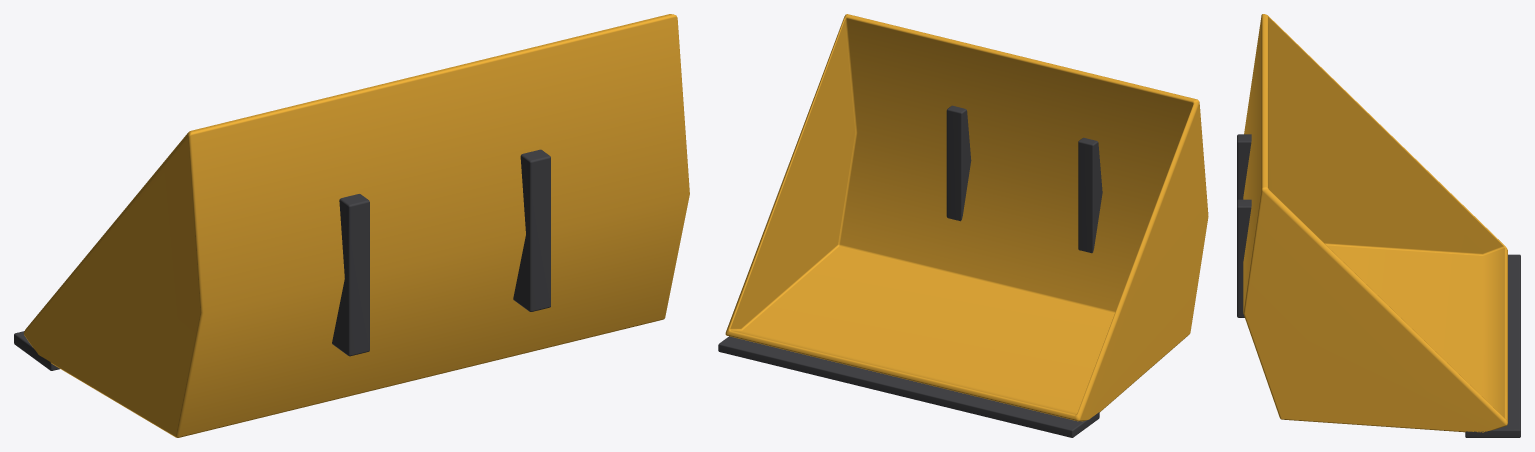
The model's file is bucket.glb.
3 renders of one model, left to right at view 1: azimuth 30°, elevation 25°; view 2: azimuth 150°, elevation 25°; view 3: azimuth 270°, elevation 25°, orthographic. The views are drawn at different scales.
Visible parts, largest first — view 1: bucket; view 2: bucket, bucket_cutting_edge; view 3: bucket, bucket_cutting_edge.
Part boxes in pixels (<box>): bucket: <box>24,14,689,437</box>; bucket: <box>725,14,1208,421</box>; bucket_cutting_edge: <box>718,336,1099,437</box>; bucket: <box>1237,14,1507,432</box>; bucket_cutting_edge: <box>1465,254,1520,437</box>.
Bounding box in the file's own units: 1.35 × 0.8942 × 0.92.
